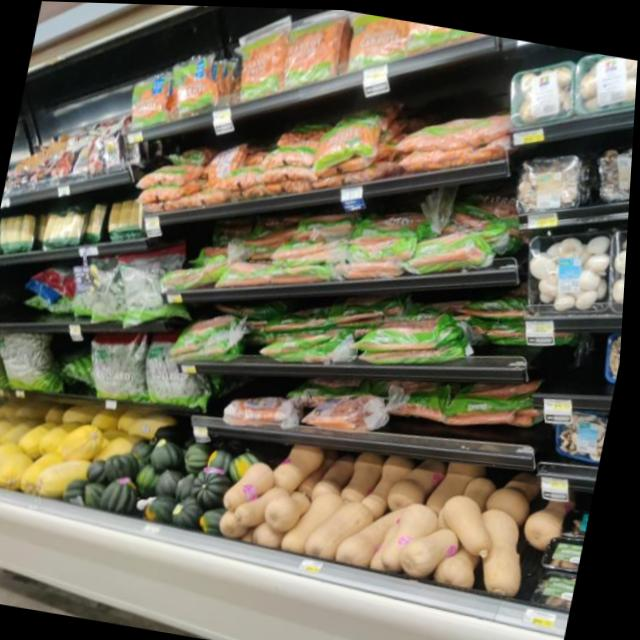Carrots: (389, 106, 523, 179), (305, 89, 408, 178), (358, 307, 485, 374), (272, 6, 353, 96), (253, 314, 361, 375), (303, 382, 404, 439), (135, 160, 227, 218), (213, 386, 310, 438), (115, 62, 181, 137), (256, 132, 325, 200), (176, 313, 251, 372), (170, 45, 227, 120), (233, 31, 292, 102), (407, 235, 494, 283), (272, 240, 345, 288), (337, 250, 415, 284)
Corn: (99, 196, 154, 245), (44, 209, 89, 253)
Lettuce: (133, 334, 222, 416), (104, 253, 198, 330), (0, 324, 79, 403), (87, 335, 163, 413)
Mushrooms: (516, 231, 630, 323), (503, 153, 596, 219), (512, 60, 581, 128), (572, 47, 638, 113)
Squash: (378, 491, 449, 577), (441, 484, 519, 561), (307, 485, 381, 563), (402, 507, 472, 581), (14, 446, 98, 502), (284, 481, 346, 554), (221, 451, 286, 519), (55, 421, 114, 465), (100, 473, 147, 519), (192, 468, 241, 512), (170, 489, 221, 530), (149, 434, 194, 474), (0, 433, 25, 493)
